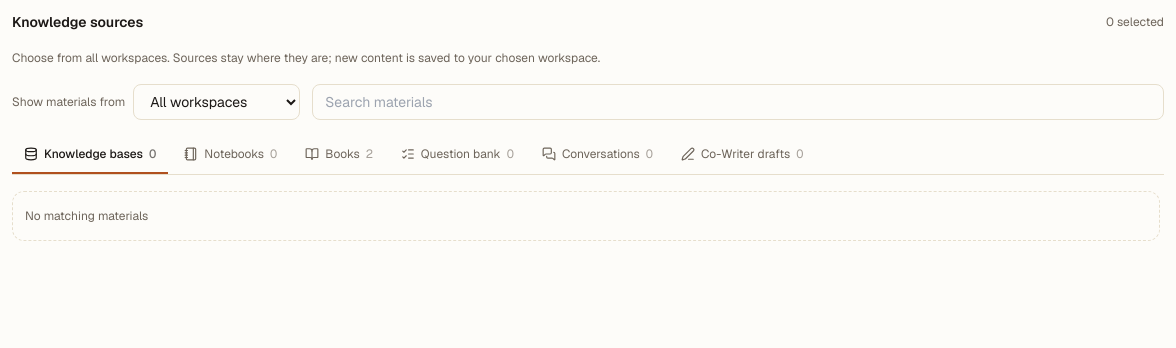
Scenario: shows all origins and preserves chosen sources while filtering and searching
Expected: the dropdown named "Filter by workspace" shows "All workspaces", [133, 84, 300, 120]
Click the tab "Books 2": (339, 155) [293, 136, 385, 174]
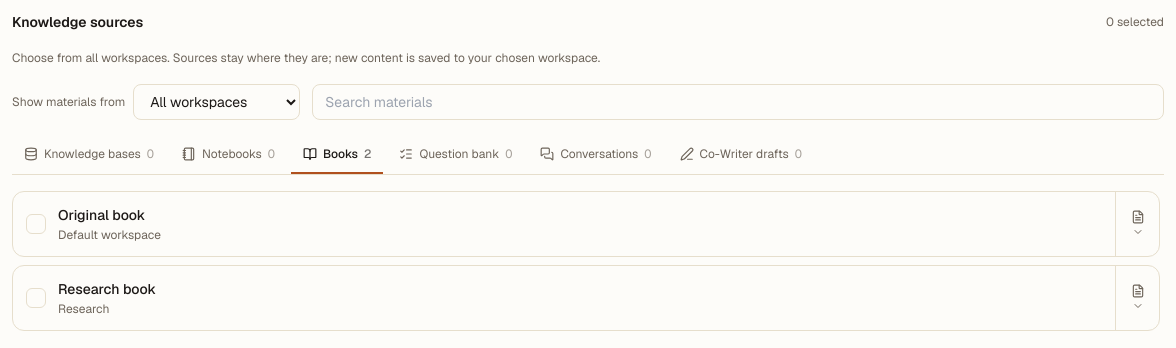
Click the button "Original book Default workspace": (102, 215) [13, 192, 1115, 256]
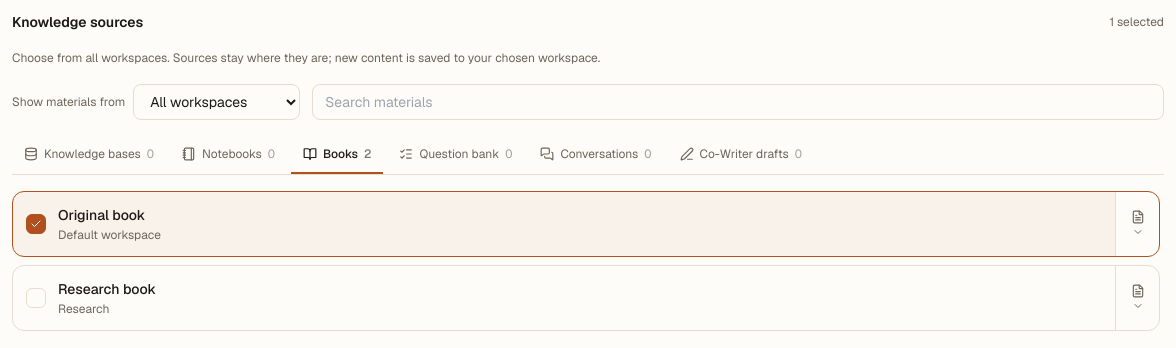
Select "Research" in the dropdown named "Filter by workspace": (217, 102) [133, 84, 300, 120]
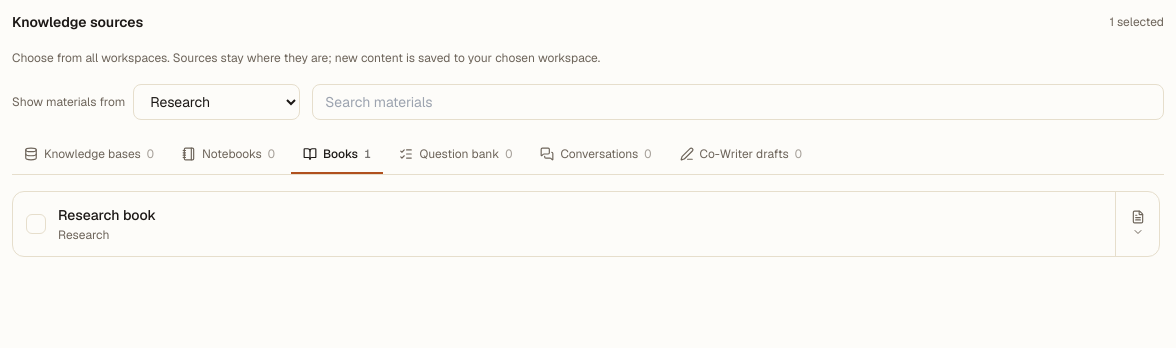
Now the button "Original book" is gone
Click the button "Research book Research": (107, 215) [13, 192, 1115, 256]
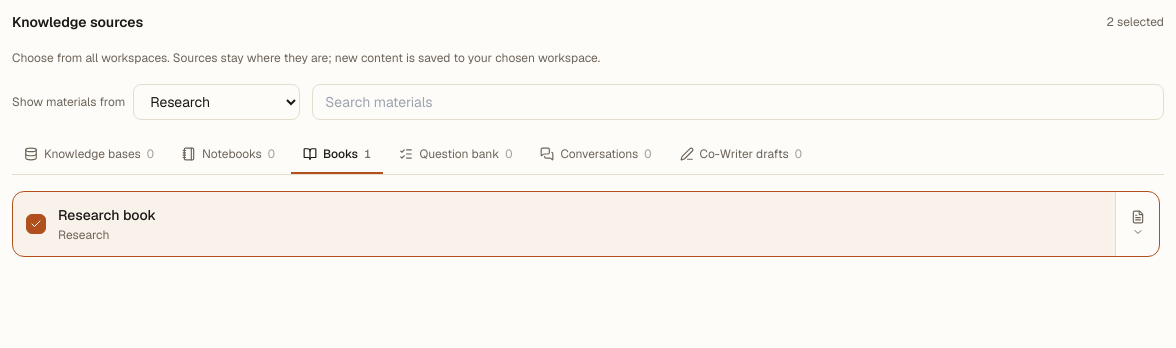
Now the text "2 selected" is shown, box [1107, 14, 1164, 30]
Select "All workspaces" in the dropdown named "Filter by workspace": (217, 102) [133, 84, 300, 120]
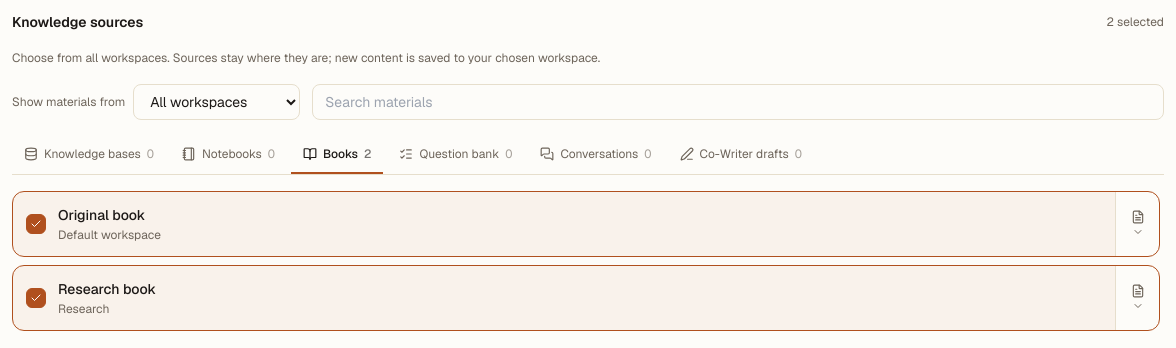
Now the button "Original book Default workspace" is pressed, box [13, 192, 1115, 256]
In the search field labelled "Search materials": (738, 102) [312, 84, 1164, 120], type "Original"
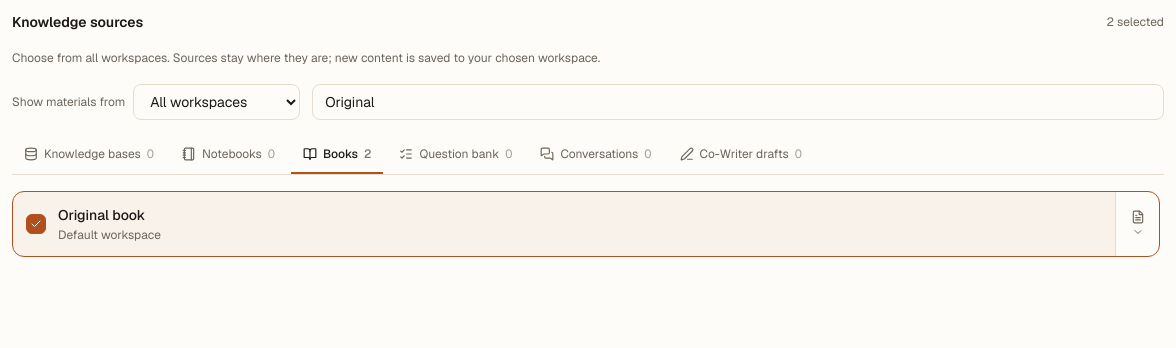
Now the button "Research book" is gone
